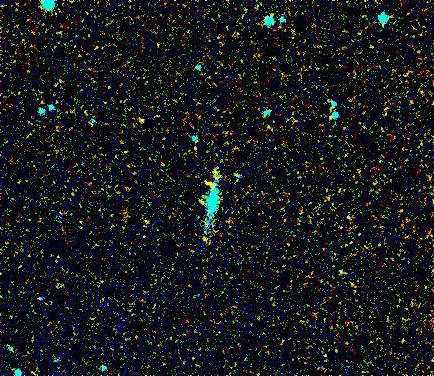star: (186, 168, 216, 198)
